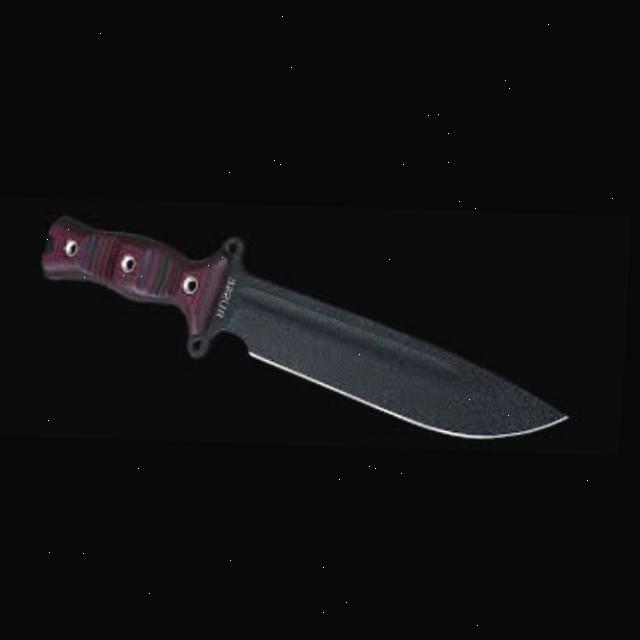knife: (34, 212, 585, 437)
